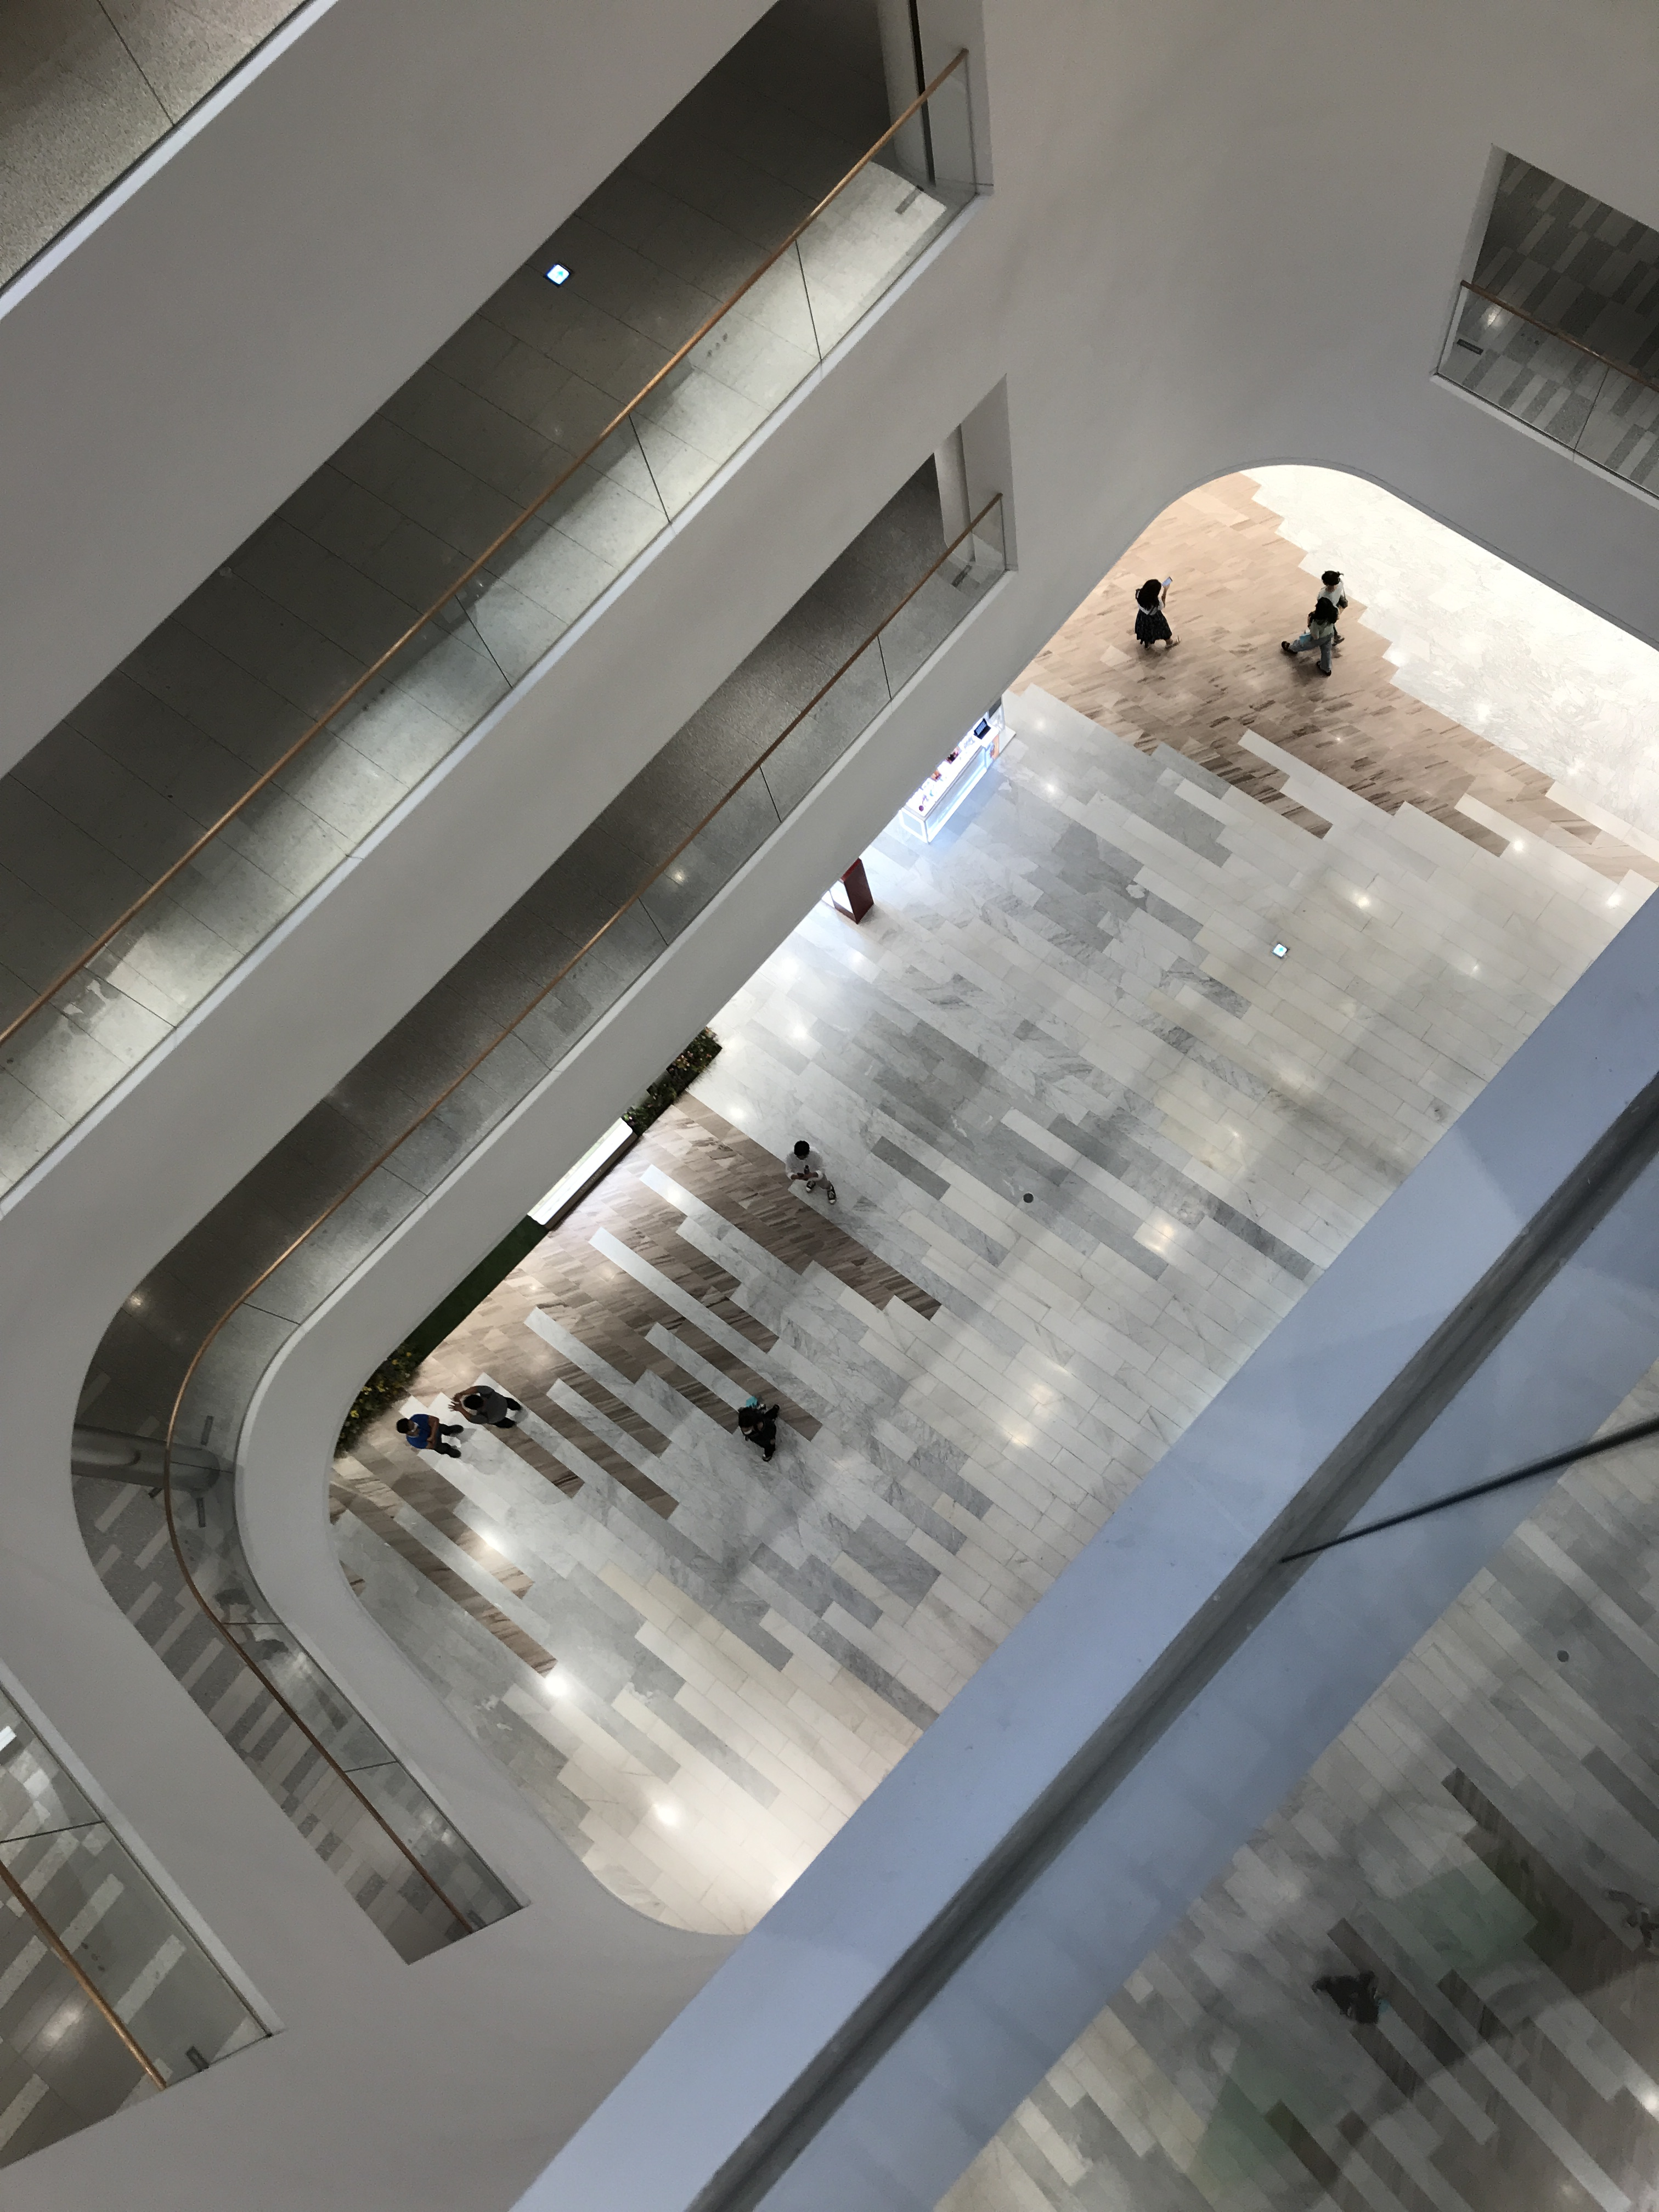person: (1282, 598, 1338, 679), (393, 1412, 464, 1462), (785, 1140, 838, 1206), (450, 1385, 525, 1429), (1316, 567, 1353, 653), (1134, 577, 1173, 656), (735, 1397, 783, 1462)
